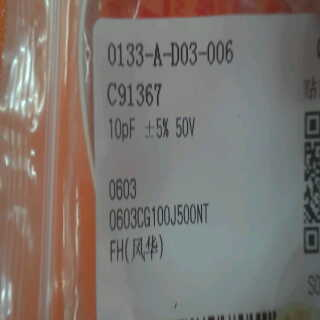10pF: (103, 110, 141, 140)
